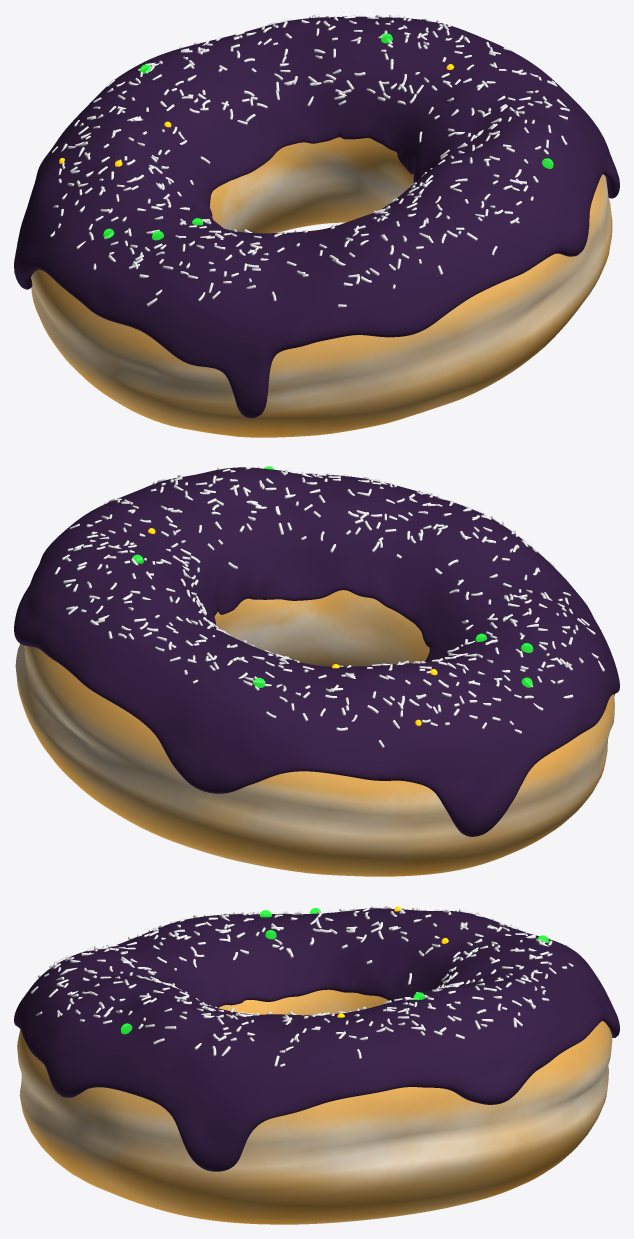
The model's file is donutHalloweenMayeul.glb.
The picture shows the model from 3 angles, top to bottom: view 1: azimuth 30°, elevation 25°; view 2: azimuth 150°, elevation 25°; view 3: azimuth 270°, elevation 25°; orthographic projection. The views are drawn at different scales.
Parts seen in each view (by area): view 1: iceing, donut; view 2: iceing, donut; view 3: iceing, donut.
Part boxes in pixels (left/top/right/bottom): iceing: left=14, top=16, right=619, bottom=418; donut: left=31, top=137, right=612, bottom=437; iceing: left=14, top=467, right=619, bottom=836; donut: left=15, top=590, right=614, bottom=876; iceing: left=14, top=908, right=619, bottom=1171; donut: left=17, top=989, right=612, bottom=1224.
Bounding box in the file's own units: 0.1459 × 0.0721 × 0.1492.
5 materials, 1 textured.
